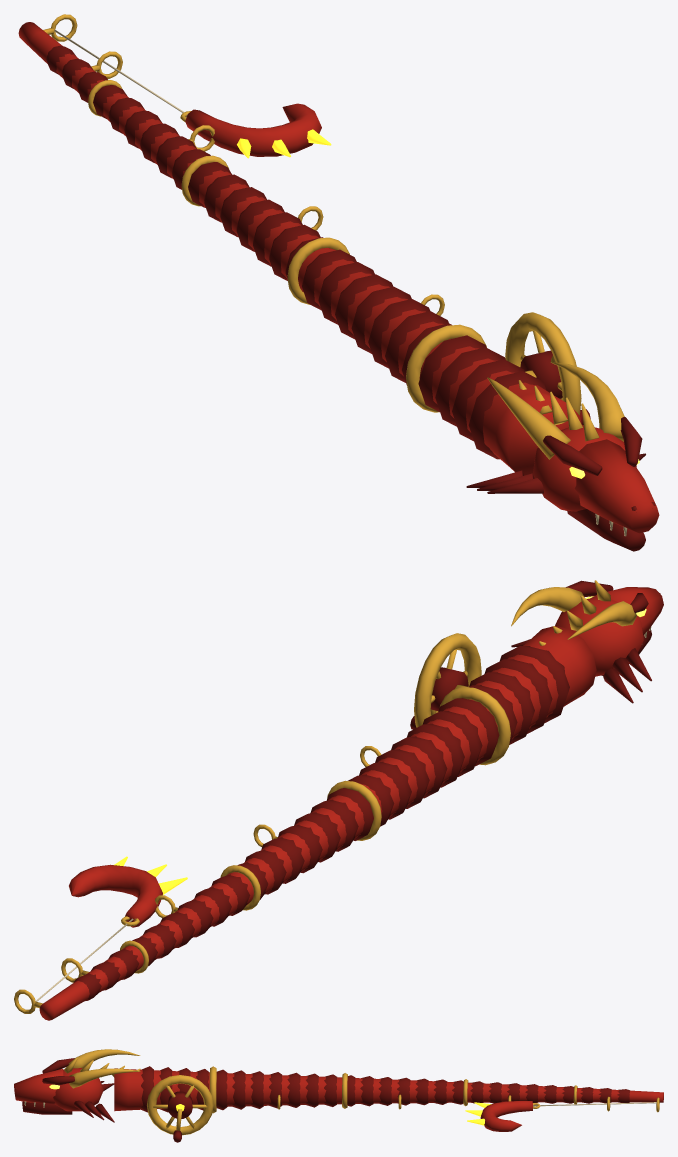
Rendered from Cana24.fbx.
3 renders of one model, top to bottom at view 1: azimuth 30°, elevation 25°; view 2: azimuth 150°, elevation 25°; view 3: azimuth 270°, elevation 25°, orthographic. The views are drawn at different scales.
Parts seen in each view (by area): view 1: Cana24; view 2: Cana24; view 3: Cana24.
Part boxes in pixels (x1,y1,x2,y2): Cana24: (18,14,659,551); Cana24: (14,580,663,1020); Cana24: (14,1049,663,1142).
Size of the model in its own units: 2.64 by 1.32 by 12.43.
